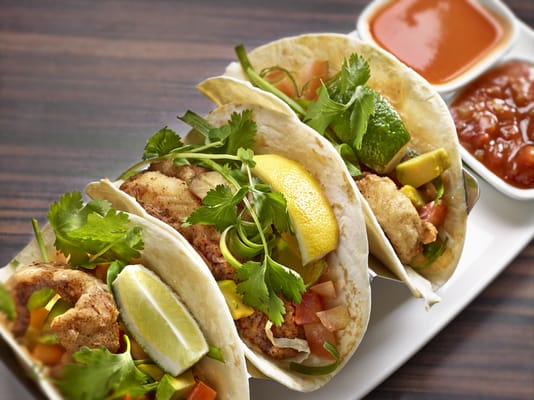soup: (102, 97, 373, 374), (198, 33, 470, 289), (0, 180, 250, 400)
sushi: (355, 0, 517, 96), (448, 59, 534, 202)
